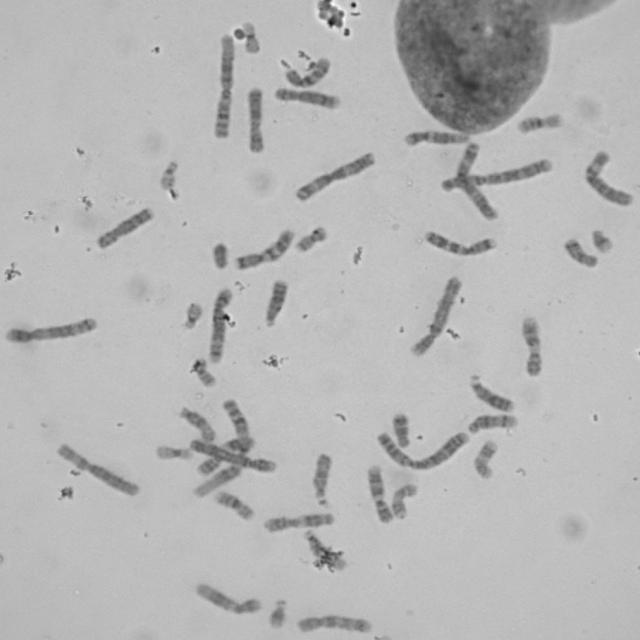A1: (191, 398, 252, 500), (210, 32, 235, 140)
A2: (438, 157, 555, 195), (376, 429, 471, 471)
A3: (292, 151, 378, 204), (454, 142, 500, 222)
B4: (406, 276, 464, 358), (188, 436, 278, 474)
B5: (3, 316, 98, 347), (207, 287, 234, 366)
C10: (293, 614, 374, 636), (284, 55, 331, 89)
C11: (192, 435, 258, 479), (262, 512, 335, 534)
C12: (193, 581, 264, 617), (404, 130, 472, 150)
C6: (56, 443, 141, 498), (580, 147, 634, 206)
C7: (231, 227, 297, 271), (424, 228, 501, 258)
C8: (95, 205, 159, 251), (273, 84, 342, 110)
C9: (518, 314, 546, 378), (366, 464, 395, 524)
D13: (467, 372, 516, 413), (261, 278, 289, 329)
D14: (302, 528, 346, 572), (465, 413, 520, 435)
D15: (178, 405, 218, 443), (310, 452, 334, 510)
E16: (213, 488, 257, 523), (515, 111, 565, 137)
E17: (389, 482, 419, 521), (472, 440, 500, 480)
E18: (562, 237, 600, 269), (392, 410, 413, 450)
F19: (154, 442, 196, 463), (240, 21, 262, 54)
F20: (294, 226, 328, 255), (192, 358, 218, 390)
G21: (265, 596, 290, 630), (590, 227, 616, 255)
G22: (158, 159, 180, 190), (183, 302, 203, 331)
X: (243, 86, 267, 155)
Y: (210, 240, 231, 272)
